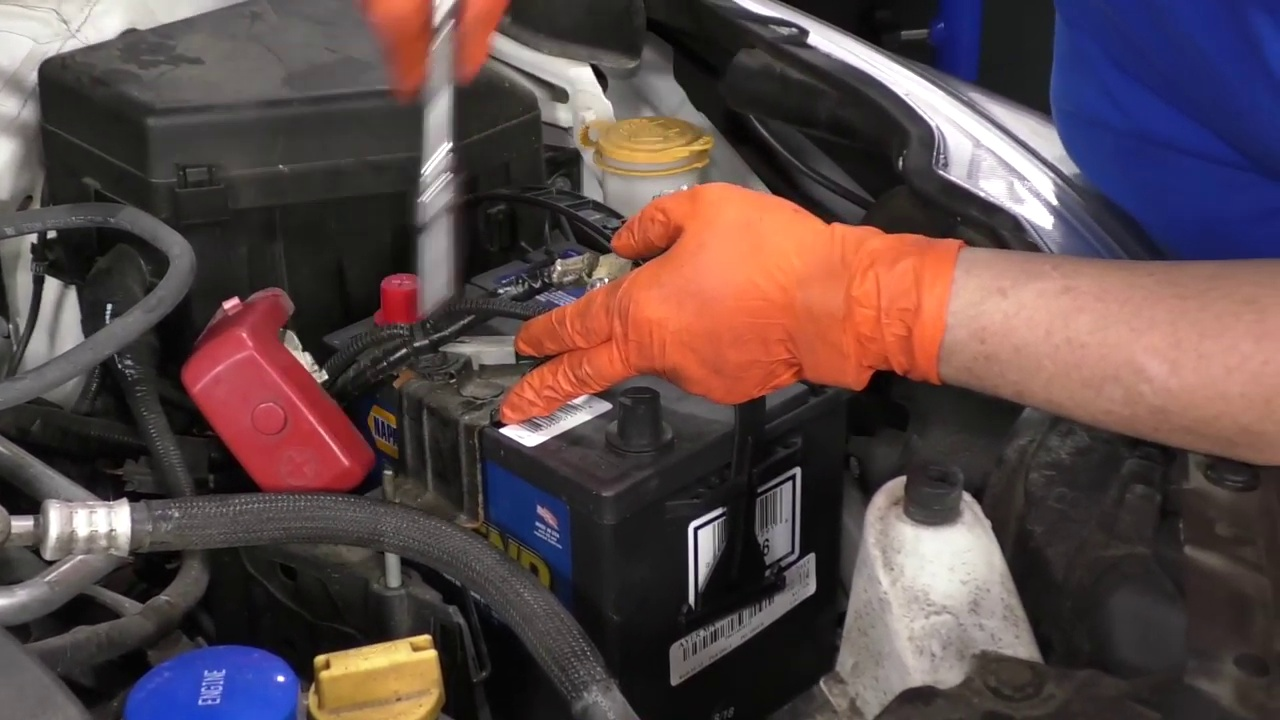battery: (324, 240, 810, 501)
